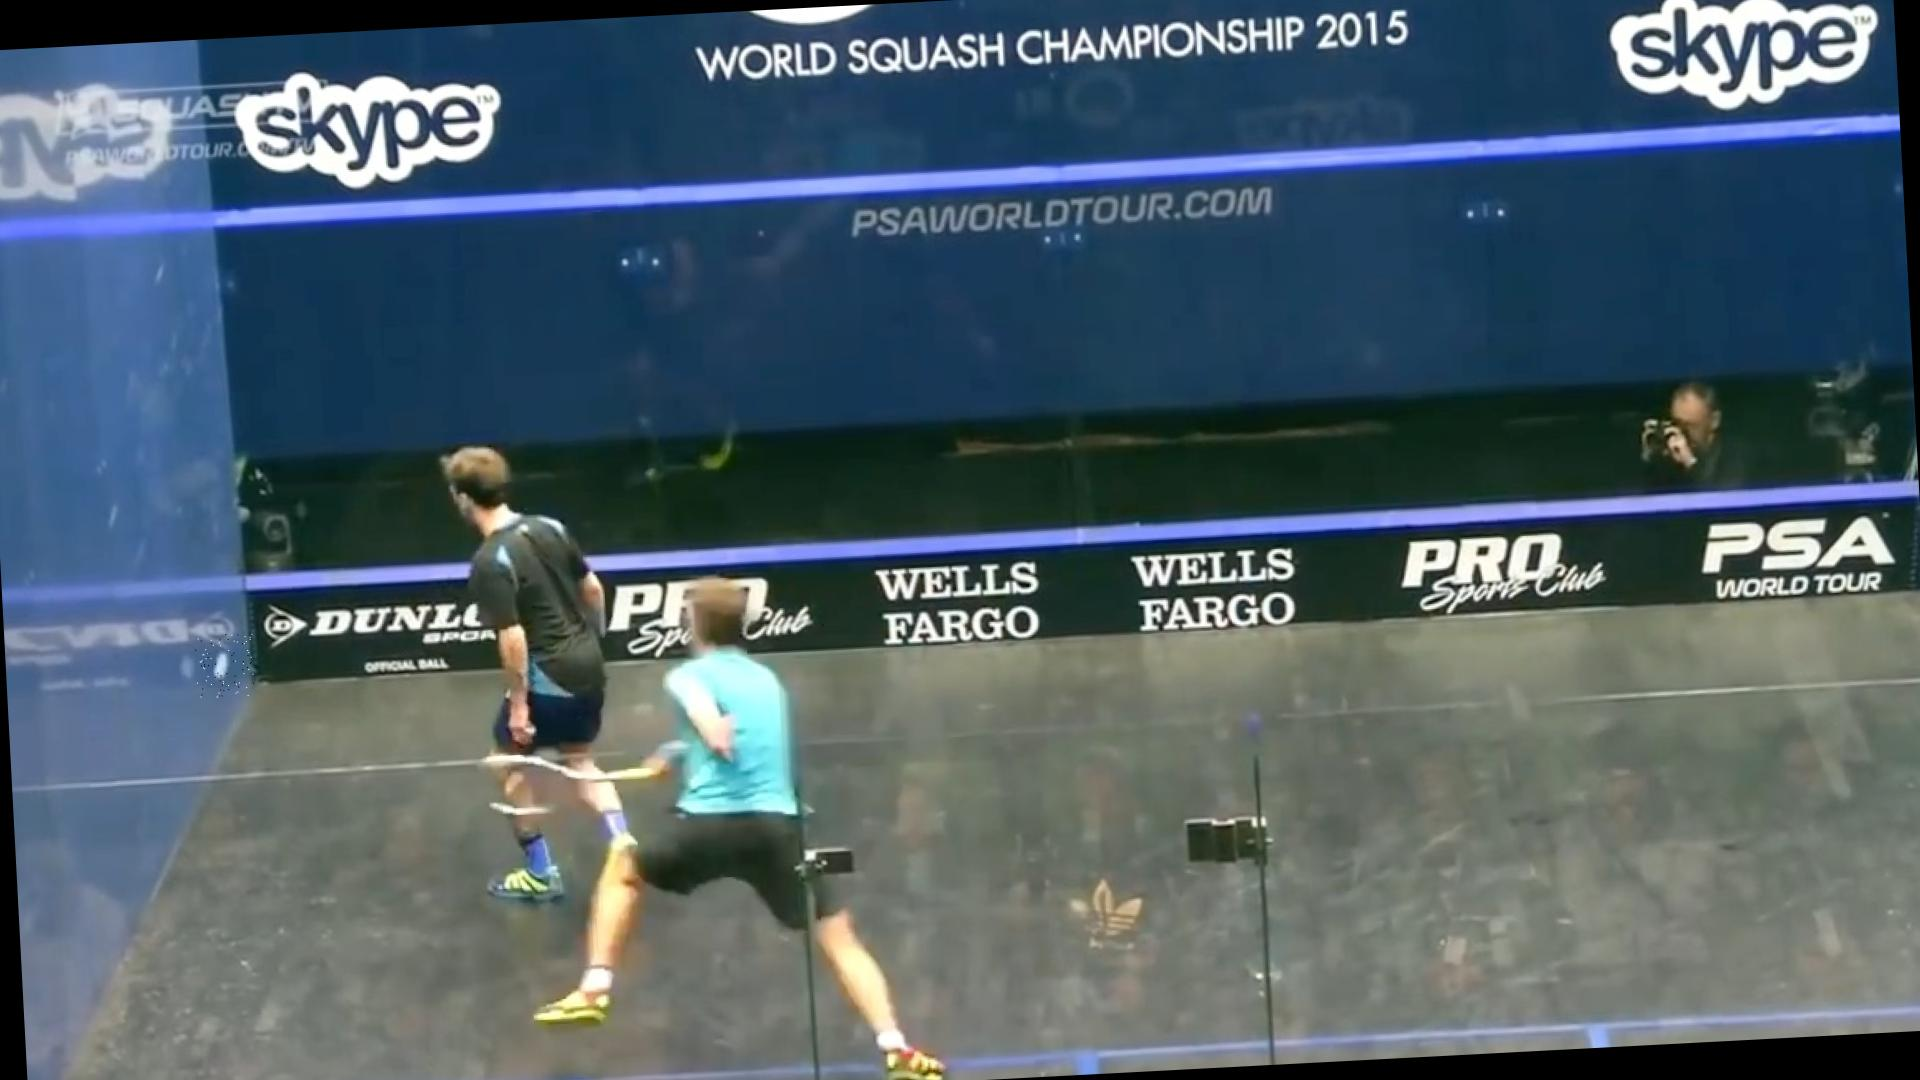Squash-Ball: (194, 632, 255, 698)
